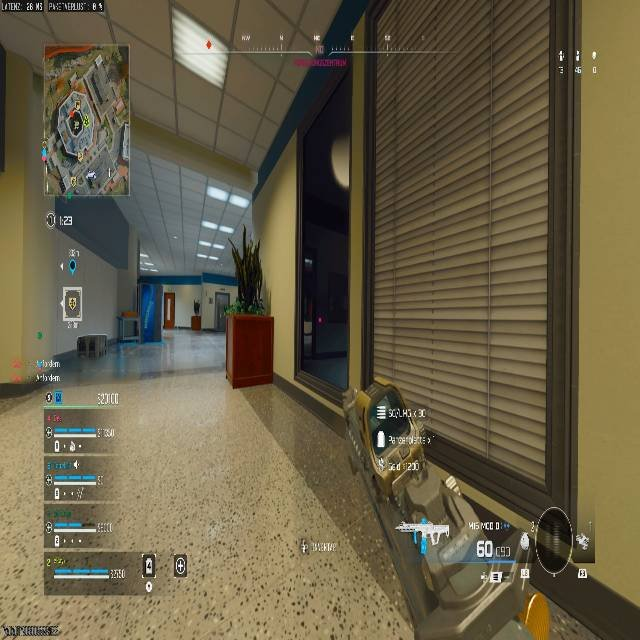head: (532, 506, 573, 573)
